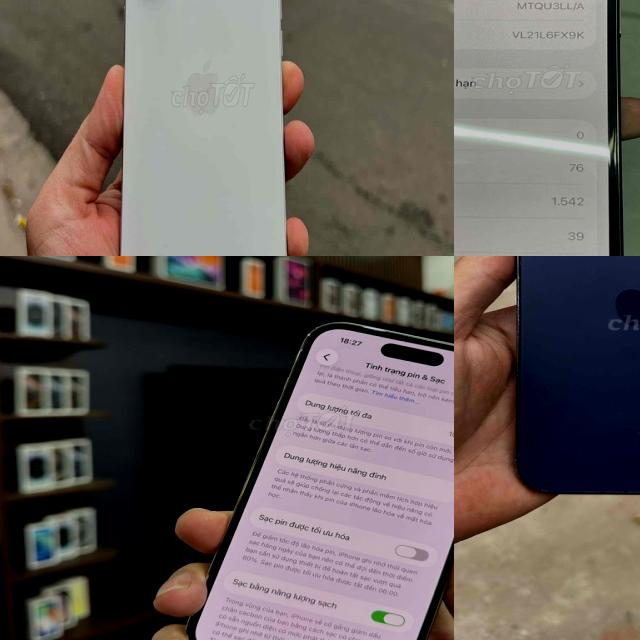gen_14: (184, 321, 454, 640), (510, 256, 640, 502)
gen_15: (454, 0, 640, 256)
gen_16: (111, 0, 291, 256)
